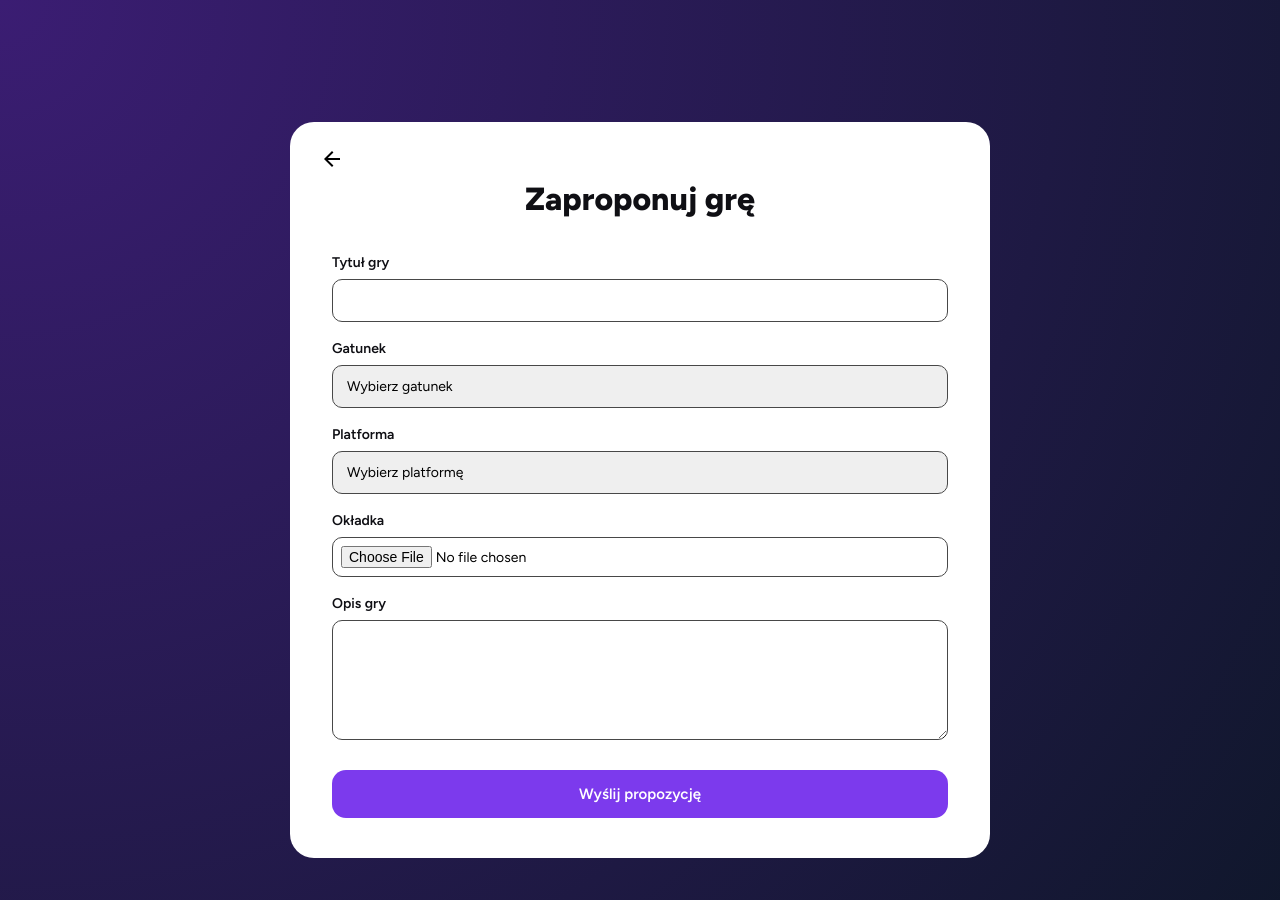
Test: ProposeGamePage › pokazuje błąd, gdy wymagane pola są puste
Click the button "Wyślij propozycję".
click(640, 794)  # box [332, 770, 948, 818]
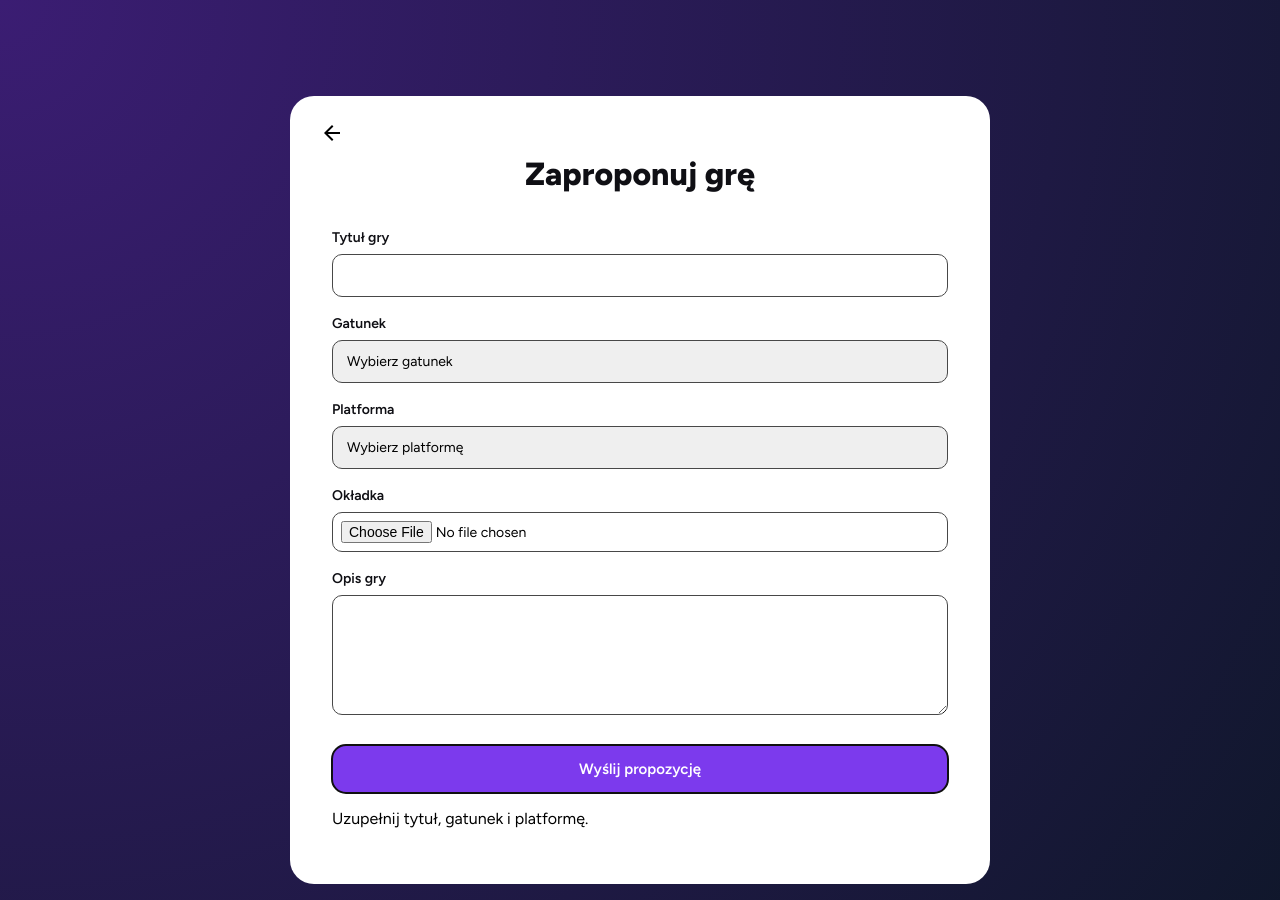
Now the text "Uzupełnij tytuł, gatunek i platformę." is shown, box [332, 809, 588, 828]
